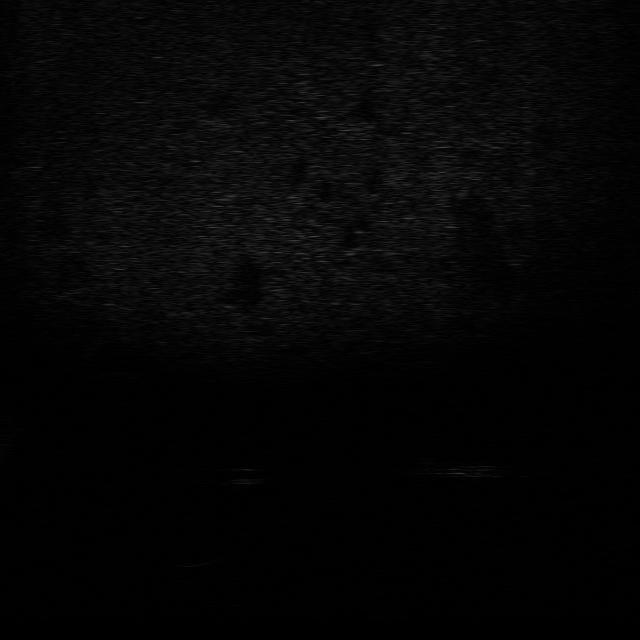ball: (212, 462, 268, 488)
human body: (401, 453, 525, 482)
